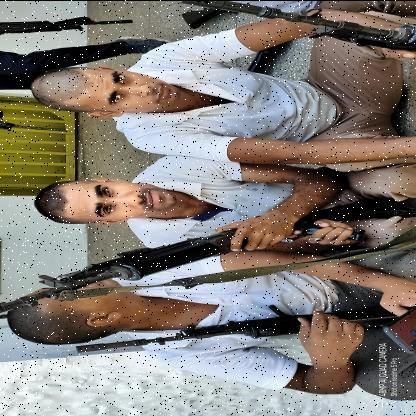rifle: (0, 193, 416, 312), (74, 302, 402, 352), (176, 0, 416, 52), (0, 15, 136, 36), (0, 108, 68, 134)
